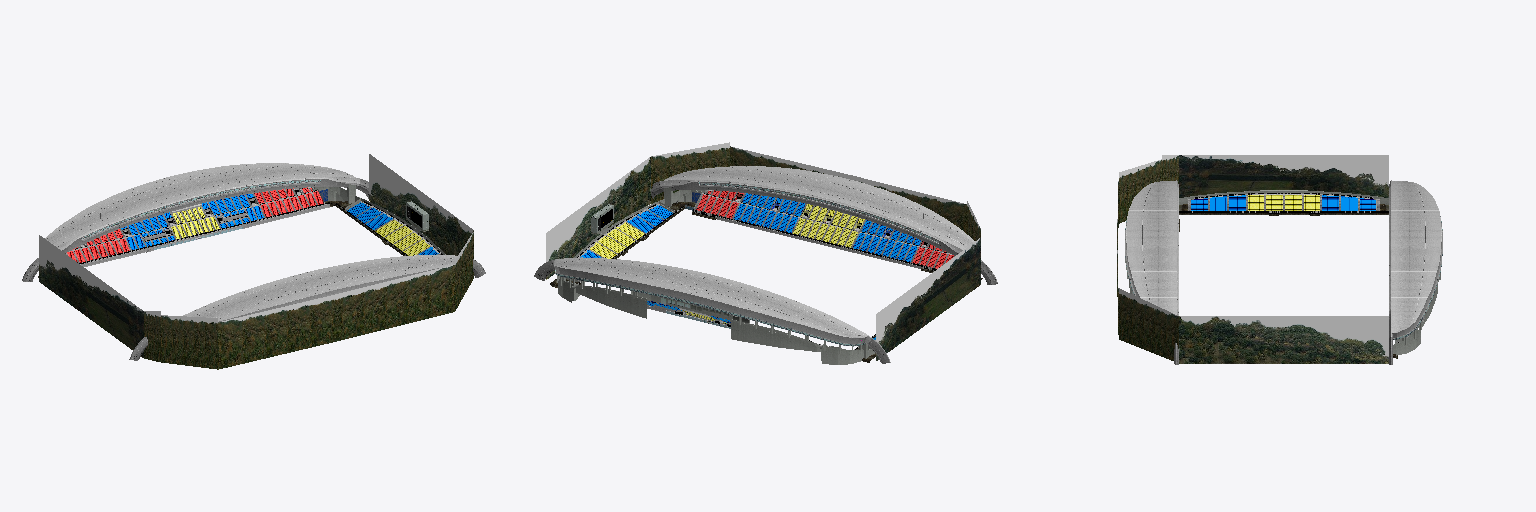
The picture shows the model from 3 angles: view 1: azimuth 30°, elevation 25°; view 2: azimuth 150°, elevation 25°; view 3: azimuth 270°, elevation 25°; orthographic projection.
Parts seen in each view (by area): view 1: ARD object_37, CONCE object_38, CONCH object_39, ARB object_41, ARA object_42, BLUE object_33, CONCB object_30, RED object_32, YELL object_34, STAI object_5, CONCA object_15, CONCF object_40; view 2: CONCE object_38, CONCH object_39, ARB object_41, ARD object_37, CONCA object_15, ARA object_42, BLUE object_33, CONCB object_30, YELL object_34, STAI object_5, RED object_32, CONCF object_40 (+2 smaller); view 3: ARA object_42, ARB object_41, CONCH object_39, CONCE object_38, ARD object_37, BLUE object_33, CONCA object_15, YELL object_34, CONC object_19.
Part boxes in pixels (x1,y1,x2,y2): ARD object_37: (144,232,473,369); CONCE object_38: (48,170,457,316); CONCH object_39: (45,163,454,321); ARB object_41: (39,235,143,357); ARA object_42: (369,154,473,255); BLUE object_33: (121,194,438,254); CONCB object_30: (69,187,440,321); RED object_32: (67,187,323,262); YELL object_34: (171,207,429,255); STAI object_5: (66,187,439,262); CONCA object_15: (65,184,445,254); CONCF object_40: (22,179,485,360); CONCE object_38: (552,173,972,344); CONCH object_39: (554,166,974,337); ARB object_41: (876,238,980,360); ARD object_37: (651,142,980,240); CONCA object_15: (557,187,954,364); ARA object_42: (546,157,650,279); BLUE object_33: (580,193,920,339); CONCB object_30: (554,190,951,345); YELL object_34: (590,204,864,323); STAI object_5: (574,190,948,346); RED object_32: (696,190,953,268); CONCF object_40: (534,181,997,363); ARA object_42: (1179,316,1388,363); ARB object_41: (1179,155,1388,197); CONCH object_39: (1126,182,1441,326); CONCE object_38: (1159,180,1408,337); ARD object_37: (1117,155,1178,360); BLUE object_33: (1191,195,1375,210); CONCA object_15: (1125,190,1440,355); YELL object_34: (1248,195,1319,210); CONC object_19: (1179,204,1397,358).
Bounding box in the file's own units: 86.51 × 11.97 × 68.57.
50 materials, 50 textured.